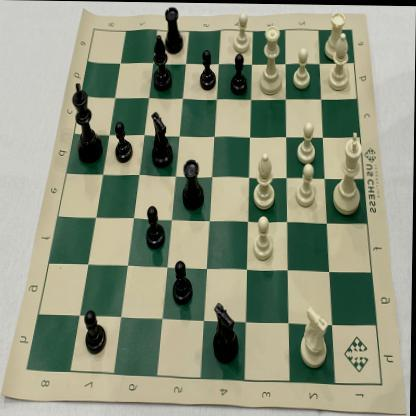black-bishop: (151, 31, 173, 92)
black-king: (69, 77, 106, 167)
black-knight: (210, 294, 242, 366), (147, 105, 176, 172)
black-pawn: (168, 255, 196, 310), (83, 302, 110, 355), (144, 197, 168, 252), (112, 115, 137, 166), (195, 47, 220, 94), (229, 50, 251, 96)
black-rook: (178, 149, 210, 217), (160, 2, 188, 57)
white-bishop: (250, 146, 280, 214), (324, 26, 352, 96)
white-king: (330, 128, 371, 217)
white-knight: (296, 301, 334, 372)
white-pawn: (250, 210, 279, 264), (294, 159, 320, 210), (289, 42, 314, 92), (230, 7, 255, 55), (297, 116, 319, 165)
white-queen: (256, 19, 285, 97)
white-rook: (321, 7, 349, 62)
